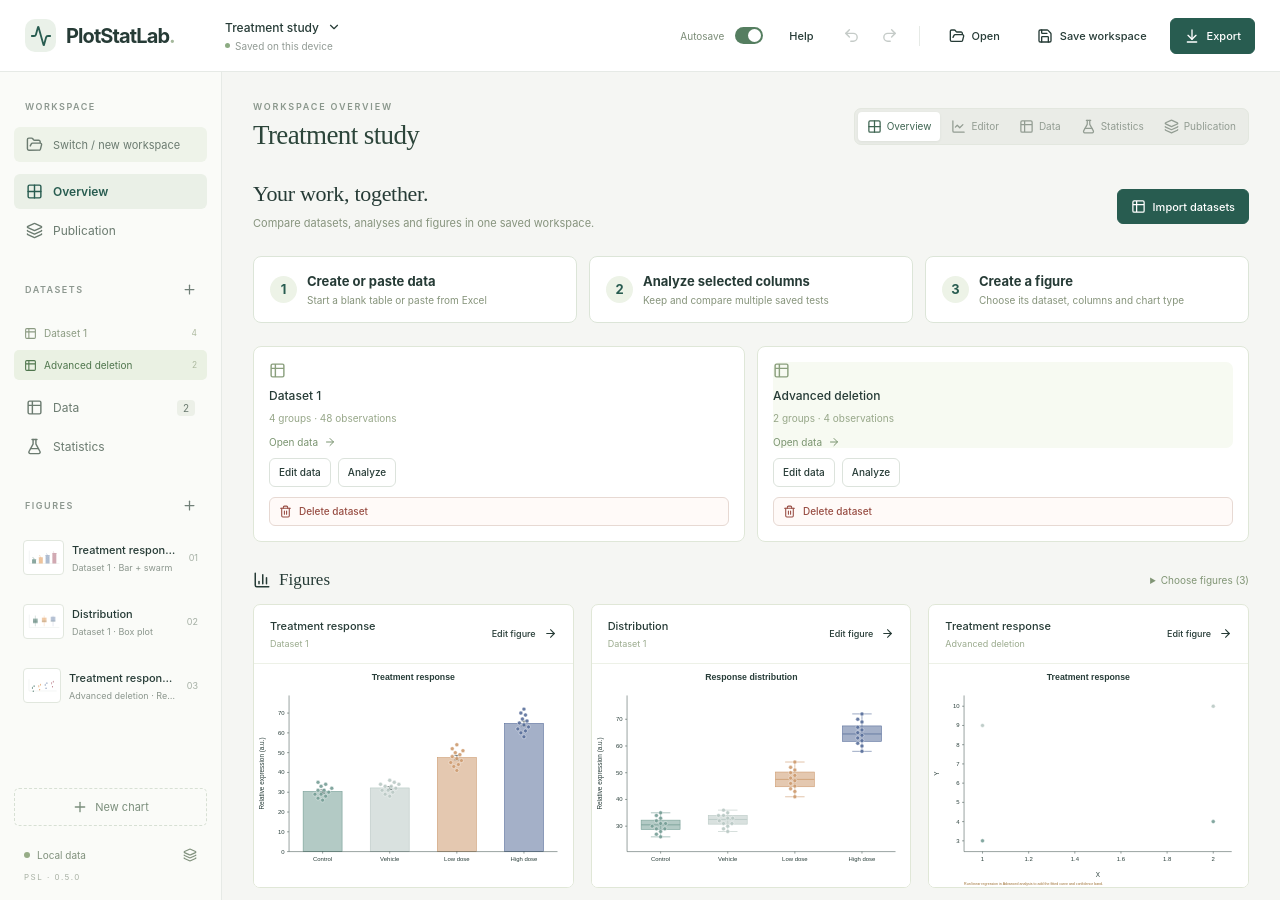
Scenario: removes every advanced observation in one operation and restores the complete table with Undo
The width and height of the screenshot is (1280, 900).
Later steps or results of the test are not shown.
Click the button "Data" at (1040, 126), box [1010, 112, 1070, 140]
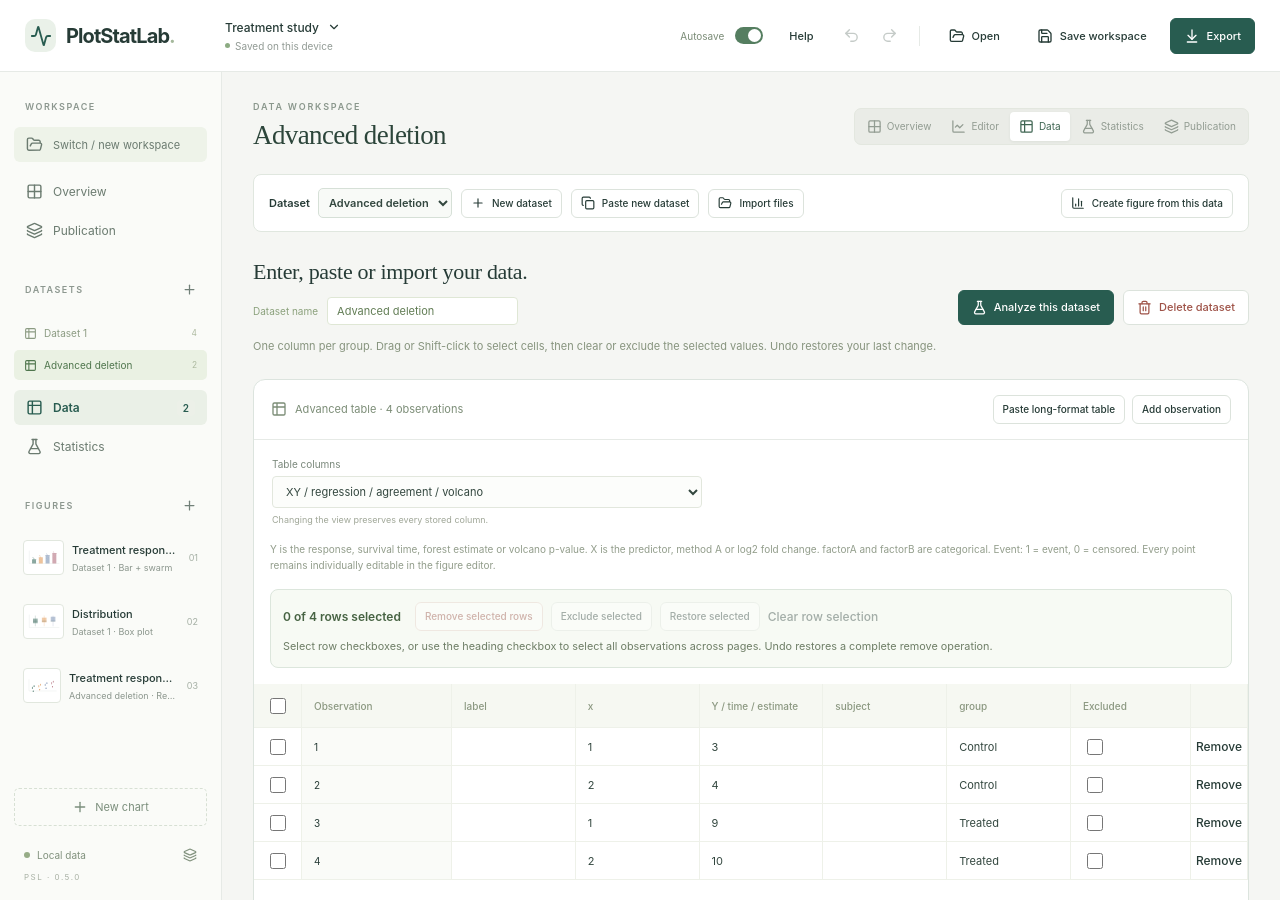
Expected: the checkbox named "Select all advanced observations" is shown
Click the checkbox named "Select all advanced observations" at (278, 706), box [270, 698, 286, 714]
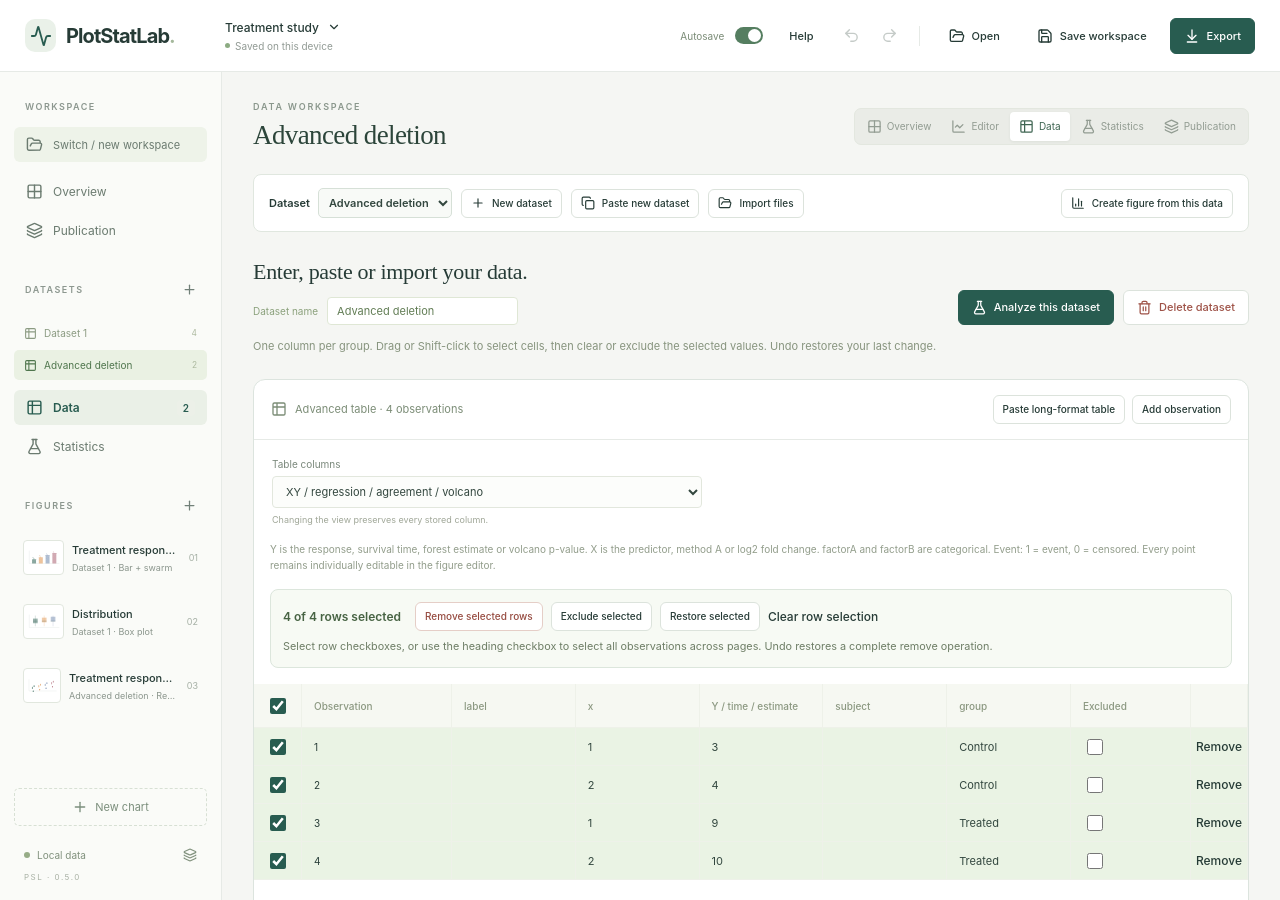
Expected: the button "Remove selected rows" is shown, [415, 602, 543, 631]
